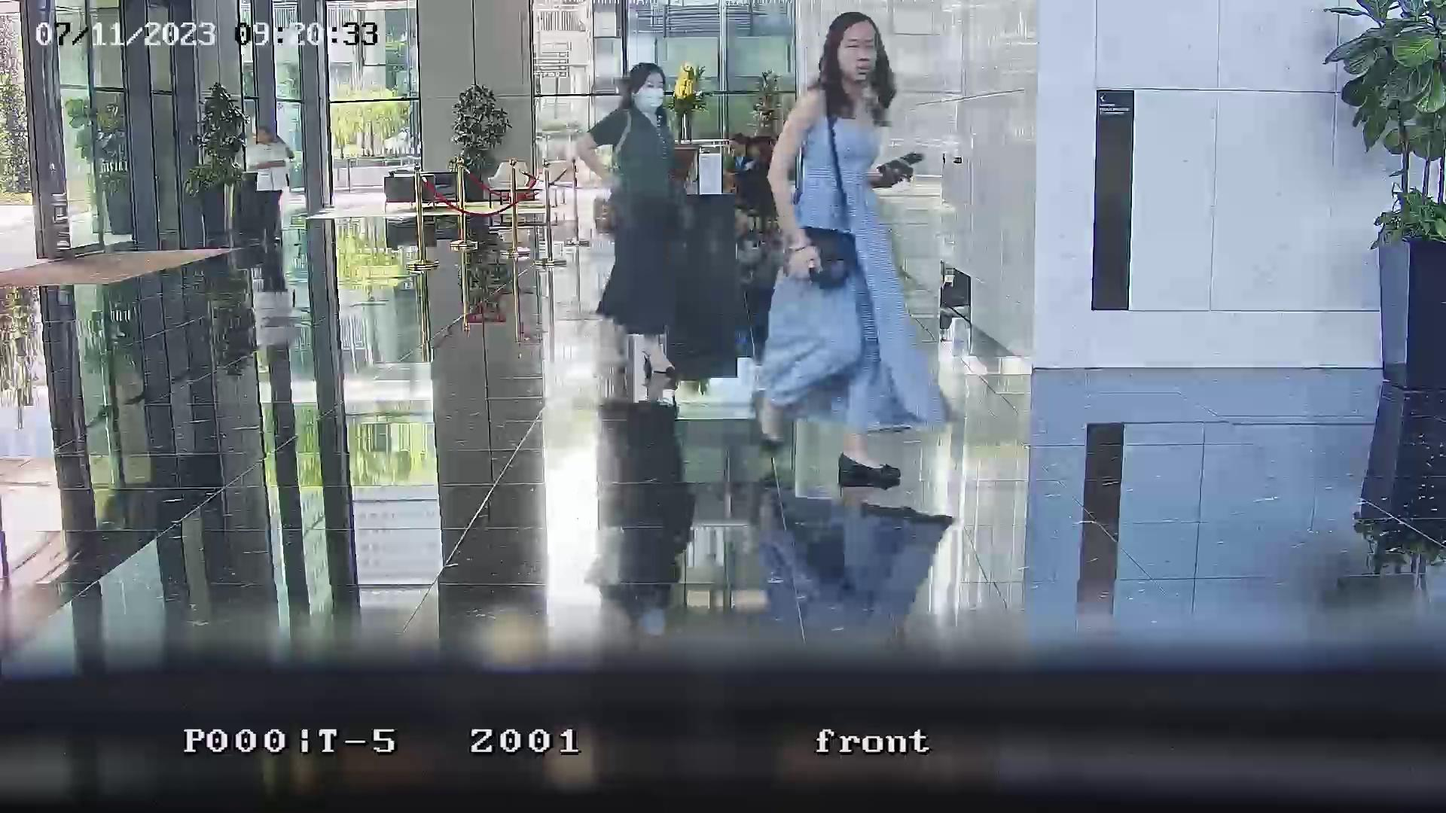person: (755, 11, 941, 495), (570, 62, 683, 344), (249, 125, 296, 248), (737, 135, 773, 201), (727, 131, 752, 172)
